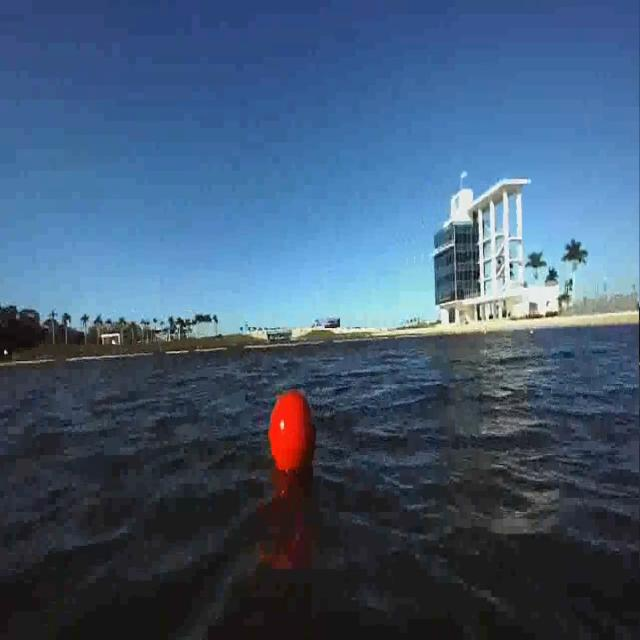red-buoy: (270, 391, 316, 478)
